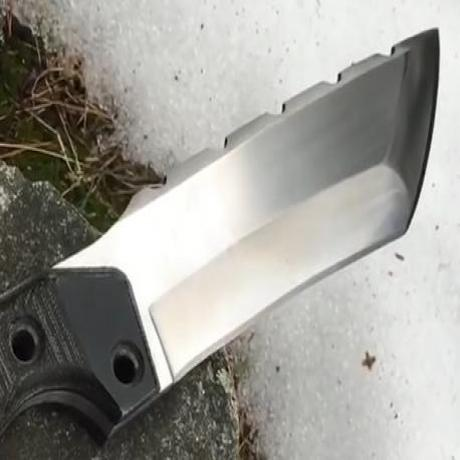weapon: (14, 26, 442, 413)
